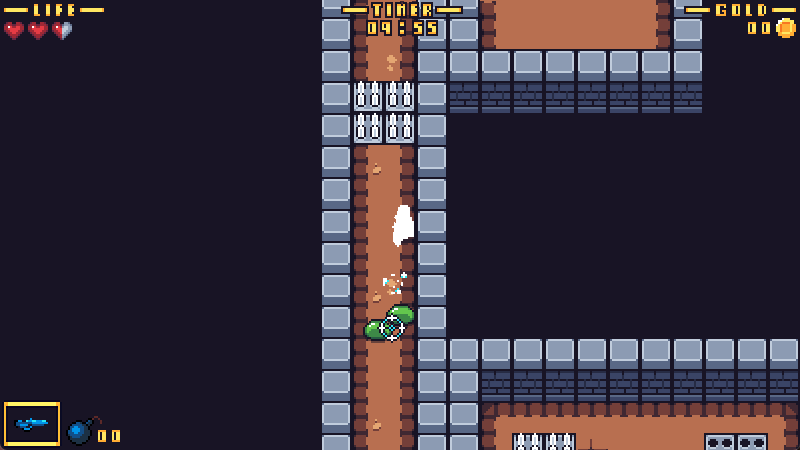aim: (378, 314, 406, 340)
enemy_slug: (385, 302, 417, 325), (364, 320, 395, 340)
player_hit: (390, 202, 415, 248)
trap_off: (703, 432, 767, 449)
trap_on: (353, 80, 417, 142), (512, 432, 574, 450)
